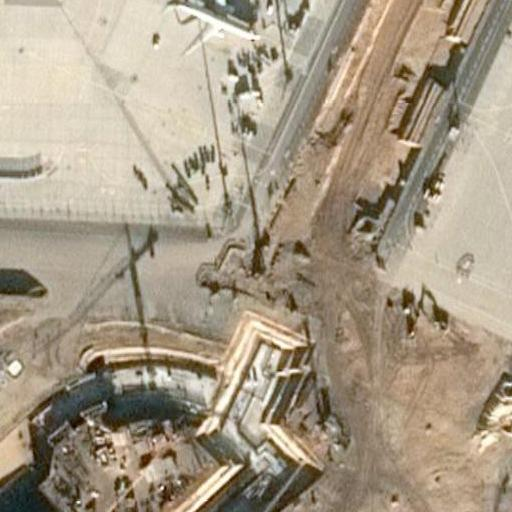Aircraft: (159, 0, 261, 56), (158, 0, 260, 55)
